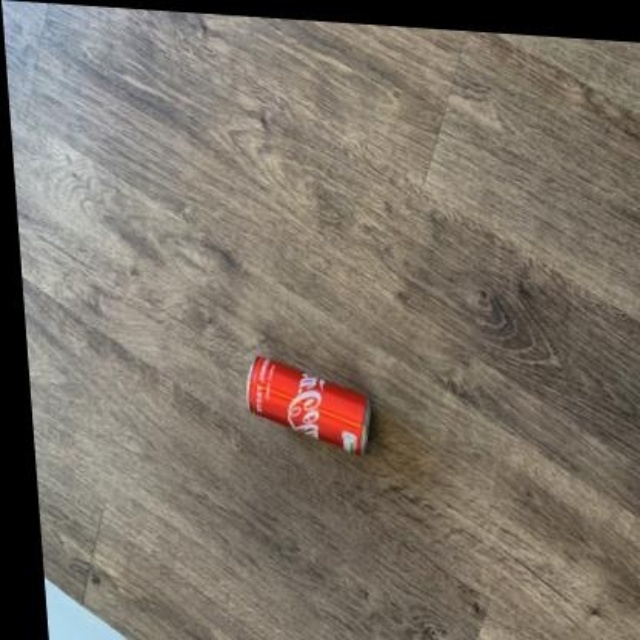trash: (248, 357, 369, 452)
